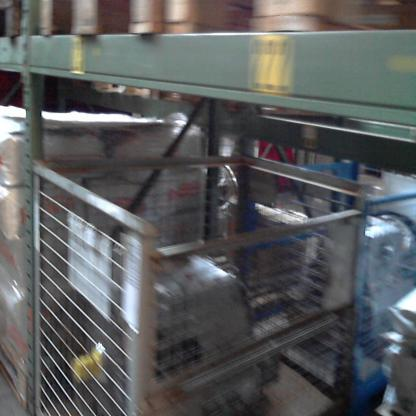pallet: (158, 1, 399, 48), (35, 3, 170, 51), (77, 74, 153, 117), (1, 4, 37, 51)
stillage: (24, 146, 359, 412), (230, 140, 416, 405)
